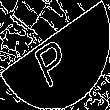P_NW: (33, 24, 77, 86)
